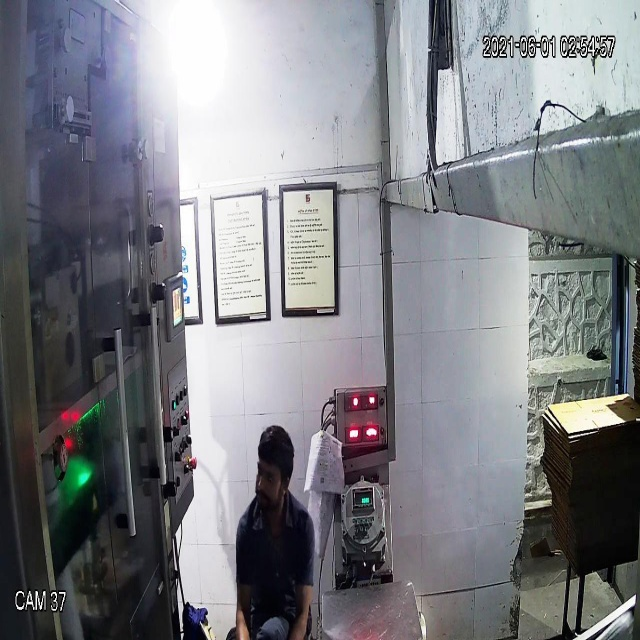Sin_gafas: (252, 461, 287, 492)
